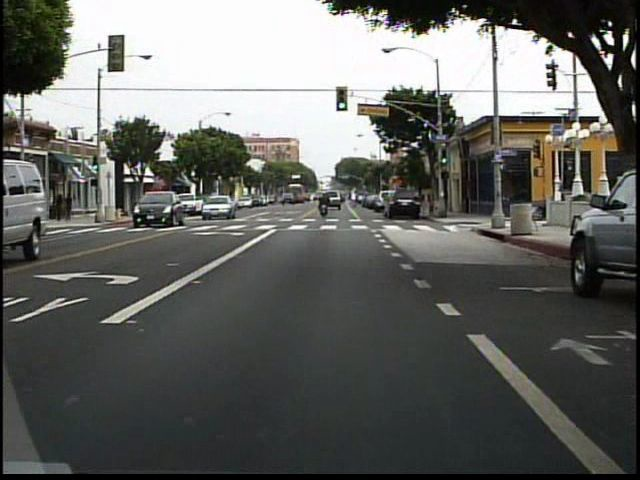person: (54, 192, 67, 222), (318, 189, 331, 219), (67, 191, 78, 222)
